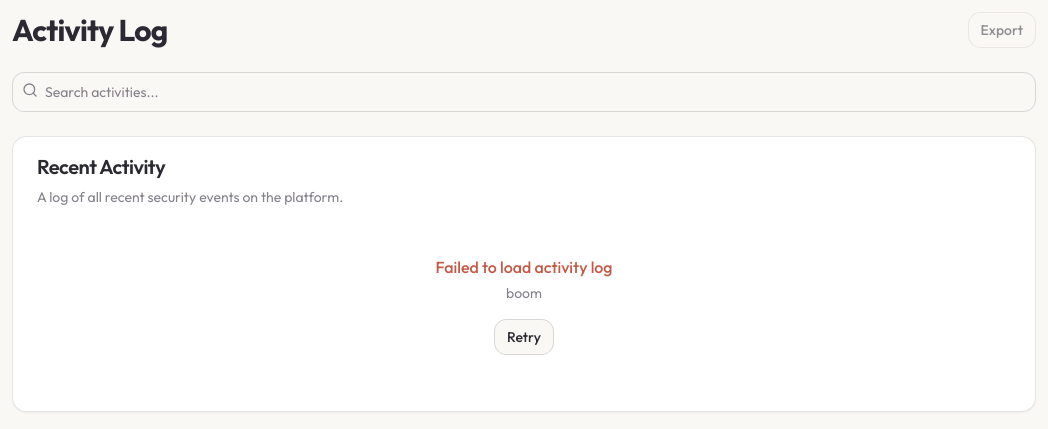
it: AdminActivity › retry re-fetches and renders the recovered rows
Click the button "Retry": coordinates (524, 337) [494, 319, 554, 355]
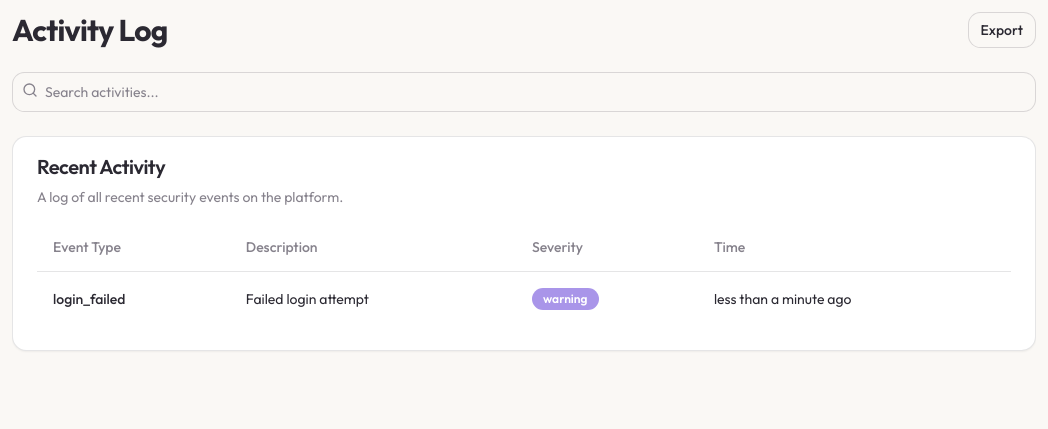
Check: the text "Failed login attempt" is shown, box [230, 271, 516, 326]
Check: the text "Failed to load activity log" is gone
